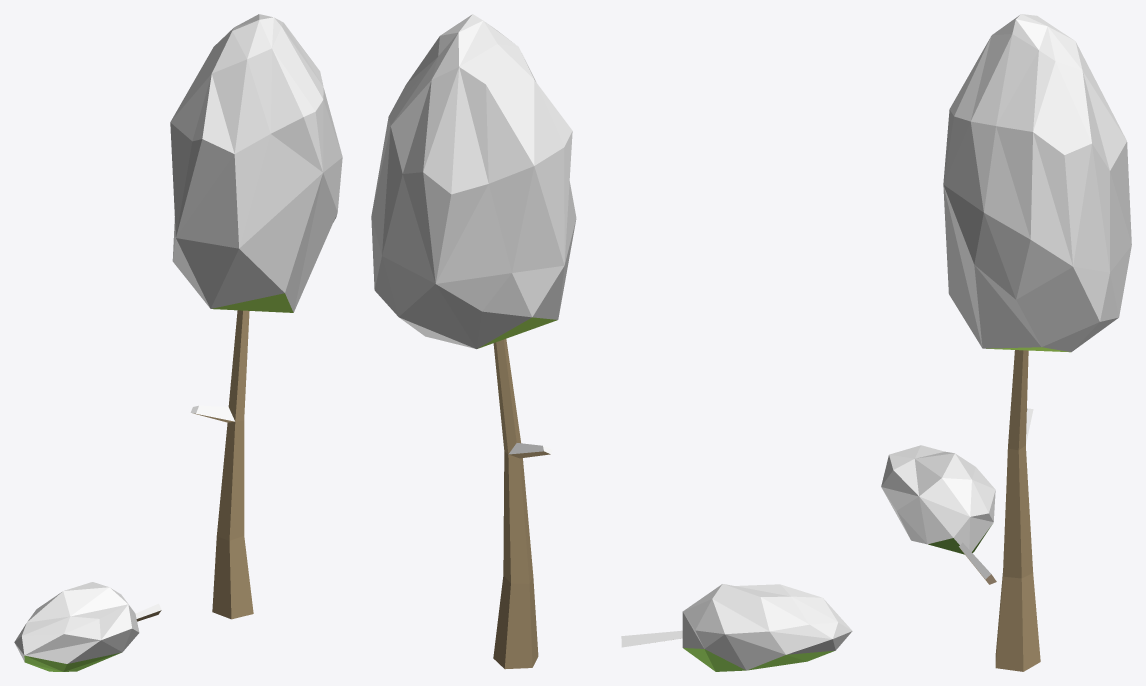
Rendered from Random_Tree_crk_m_Snow_01.fbx.
3 views of the same model, side by side, from view 1: azimuth 30°, elevation 25°; view 2: azimuth 150°, elevation 25°; view 3: azimuth 270°, elevation 25° (orthographic). The views are drawn at different scales.
Parts seen in each view (by area): view 1: Random_Tree_crk_m_Snow_01; view 2: Random_Tree_crk_m_Snow_01; view 3: Random_Tree_crk_m_Snow_01.
Part boxes in pixels (box(x1,y1,x2,y2)): Random_Tree_crk_m_Snow_01: box(14, 14, 342, 671); Random_Tree_crk_m_Snow_01: box(371, 14, 852, 671); Random_Tree_crk_m_Snow_01: box(881, 14, 1131, 671).
Size of the model in its own units: 590 by 890 by 304.
